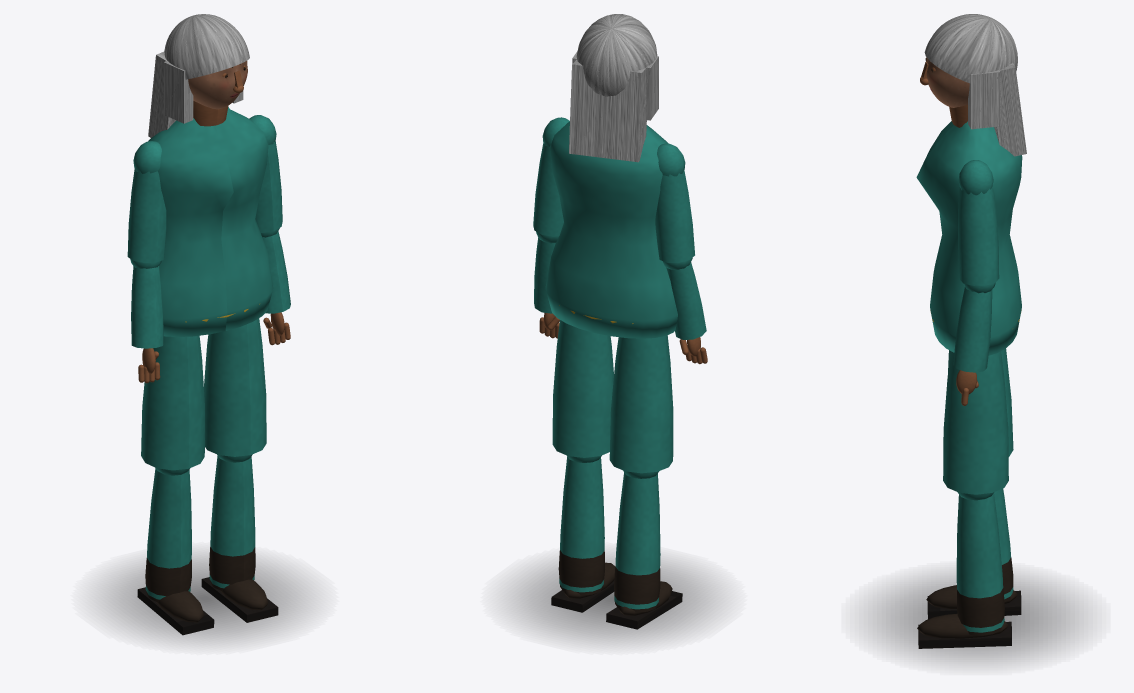
File: npc_resident2.glb
3 renders of one model, left to right at view 1: azimuth 30°, elevation 25°; view 2: azimuth 150°, elevation 25°; view 3: azimuth 270°, elevation 25°, orthographic. The views are drawn at different scales.
Visible parts, largest first — view 1: chest, object 11, head, legR, shinR, legL, shinL, armL, foreL, armR, foreR; view 2: chest, head, object 11, legL, legR, shinL, shinR, armL, foreL, armR, foreR; view 3: chest, object 11, head, shinR, legR, armR, foreR, shinL, legL.
Part boxes in pixels (<box>): chest: <box>148,101,273,336</box>; object 11: <box>98,553,311,643</box>; head: <box>148,14,249,137</box>; legR: <box>204,318,266,456</box>; shinR: <box>201,454,278,622</box>; legL: <box>141,335,204,470</box>; shinL: <box>137,468,214,635</box>; armL: <box>127,141,166,262</box>; foreL: <box>130,259,163,383</box>; armR: <box>249,115,282,232</box>; foreR: <box>261,228,290,345</box>; chest: <box>545,121,677,338</box>; head: <box>569,14,658,162</box>; object 11: <box>508,554,720,643</box>; legL: <box>609,335,673,473</box>; legR: <box>552,320,613,457</box>; shinL: <box>606,470,682,629</box>; shinR: <box>551,455,615,612</box>; armL: <box>655,143,694,262</box>; foreL: <box>662,258,707,364</box>; armR: <box>533,117,569,236</box>; foreR: <box>534,231,559,338</box>; chest: <box>916,105,1022,355</box>; object 11: <box>868,573,1083,663</box>; head: <box>920,14,1026,156</box>; shinR: <box>917,492,1011,648</box>; legR: <box>943,351,1008,494</box>; armR: <box>958,160,999,285</box>; foreR: <box>953,282,995,405</box>; shinL: <box>926,488,1021,618</box>; legL: <box>948,348,1013,456</box>.
Size of the model in its own units: 0.77 by 1.8 by 0.77.
Materials: 6 (5 with a texture image).
